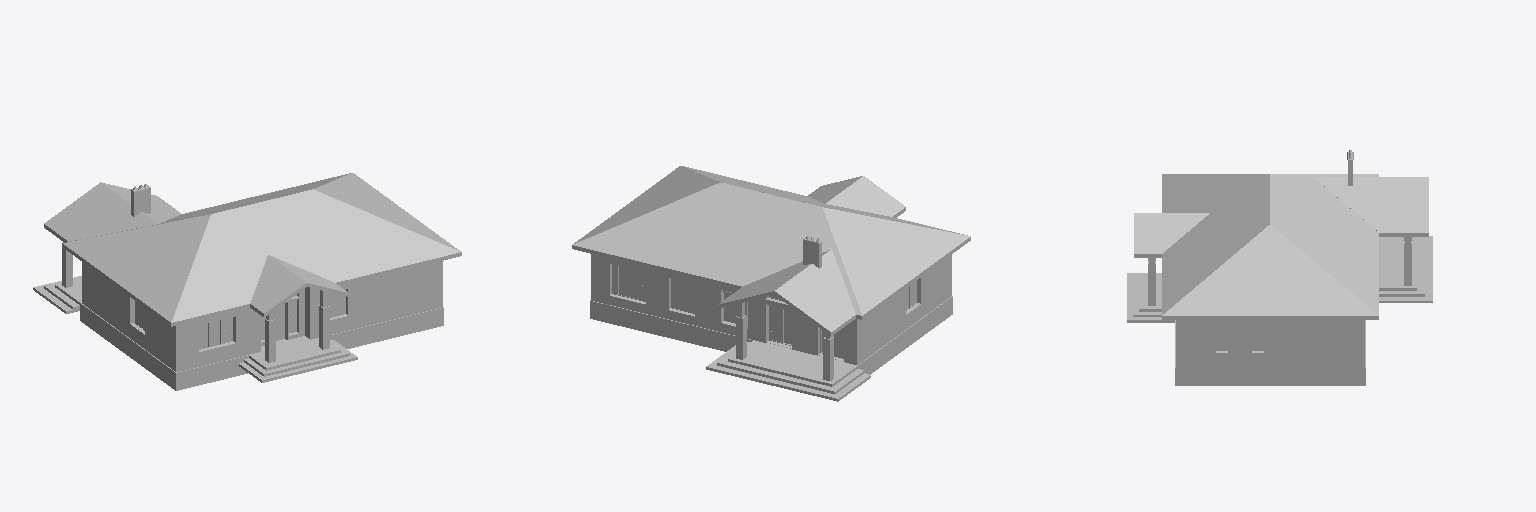
File: House N061221.obj
3 views of the same model, side by side, from view 1: azimuth 30°, elevation 25°; view 2: azimuth 150°, elevation 25°; view 3: azimuth 270°, elevation 25° (orthographic).
Parts seen in each view (by area): view 1: _________ARCHICAD_______________________________________________, ________________________________________________________________, _________ARCHICAD________________________________; view 2: _________ARCHICAD_______________________________________________, ________________________________________________________________, _________ARCHICAD________________________________, _________ARCHICAD_____________________________________; view 3: _________ARCHICAD_______________________________________________, ________________________________________________________________, _________ARCHICAD________________________________.
Part boxes in pixels (bbox=[...]): _________ARCHICAD_______________________________________________: bbox=[44, 173, 460, 322]; ________________________________________________________________: bbox=[33, 184, 443, 390]; _________ARCHICAD________________________________: bbox=[62, 243, 461, 326]; _________ARCHICAD_______________________________________________: bbox=[573, 166, 970, 331]; ________________________________________________________________: bbox=[590, 236, 952, 401]; _________ARCHICAD________________________________: bbox=[572, 182, 970, 319]; _________ARCHICAD_____________________________________: bbox=[718, 207, 905, 335]; _________ARCHICAD_______________________________________________: bbox=[1134, 174, 1428, 315]; ________________________________________________________________: bbox=[1127, 150, 1432, 385]; _________ARCHICAD________________________________: bbox=[1162, 316, 1378, 319].
Size of the model in its own units: 16950 by 7093 by 15276.